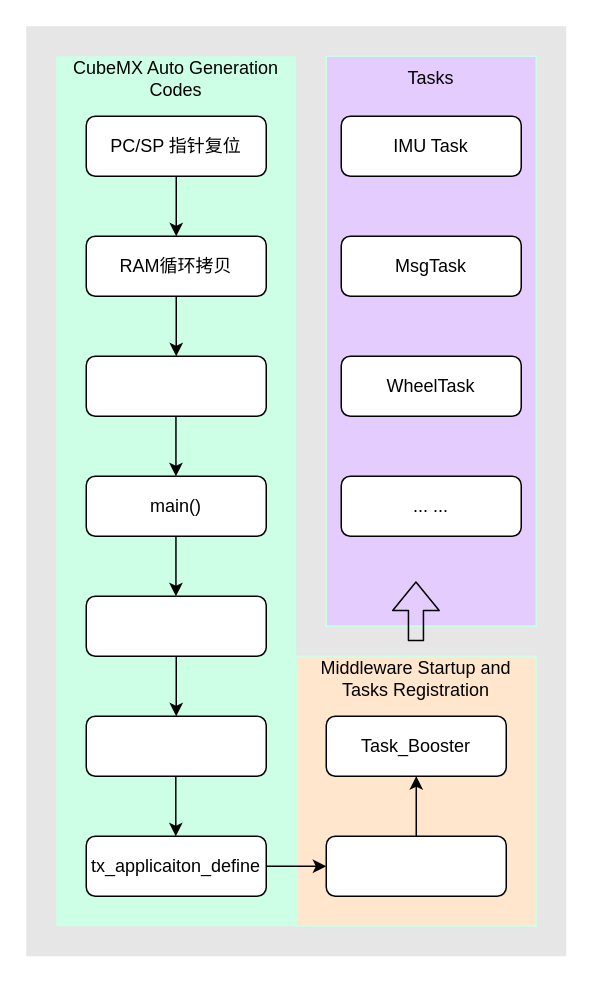
Some shapes in this 591 by 981 pixel diagram are drawn without their labels. The centre of each missing label's shape, as x and y in pixels:
"MX_ThreadX_Init" goes at (175,745).
"Service_Booster" goes at (415,865).
"SystemInit" goes at (175,385).
"外设Init" goes at (175,625).
